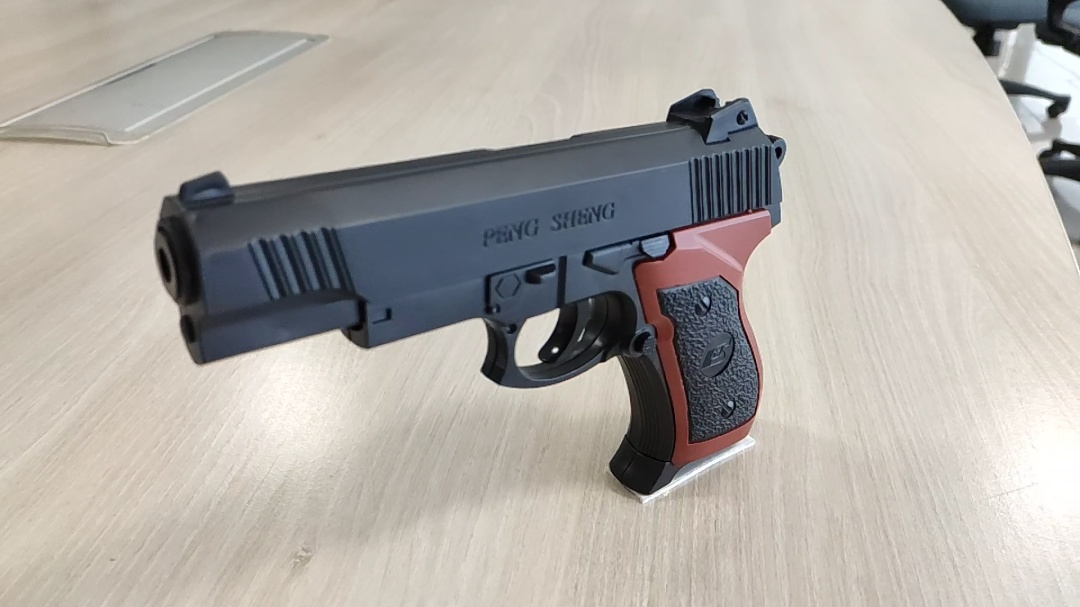gun: (364, 226, 408, 291)
